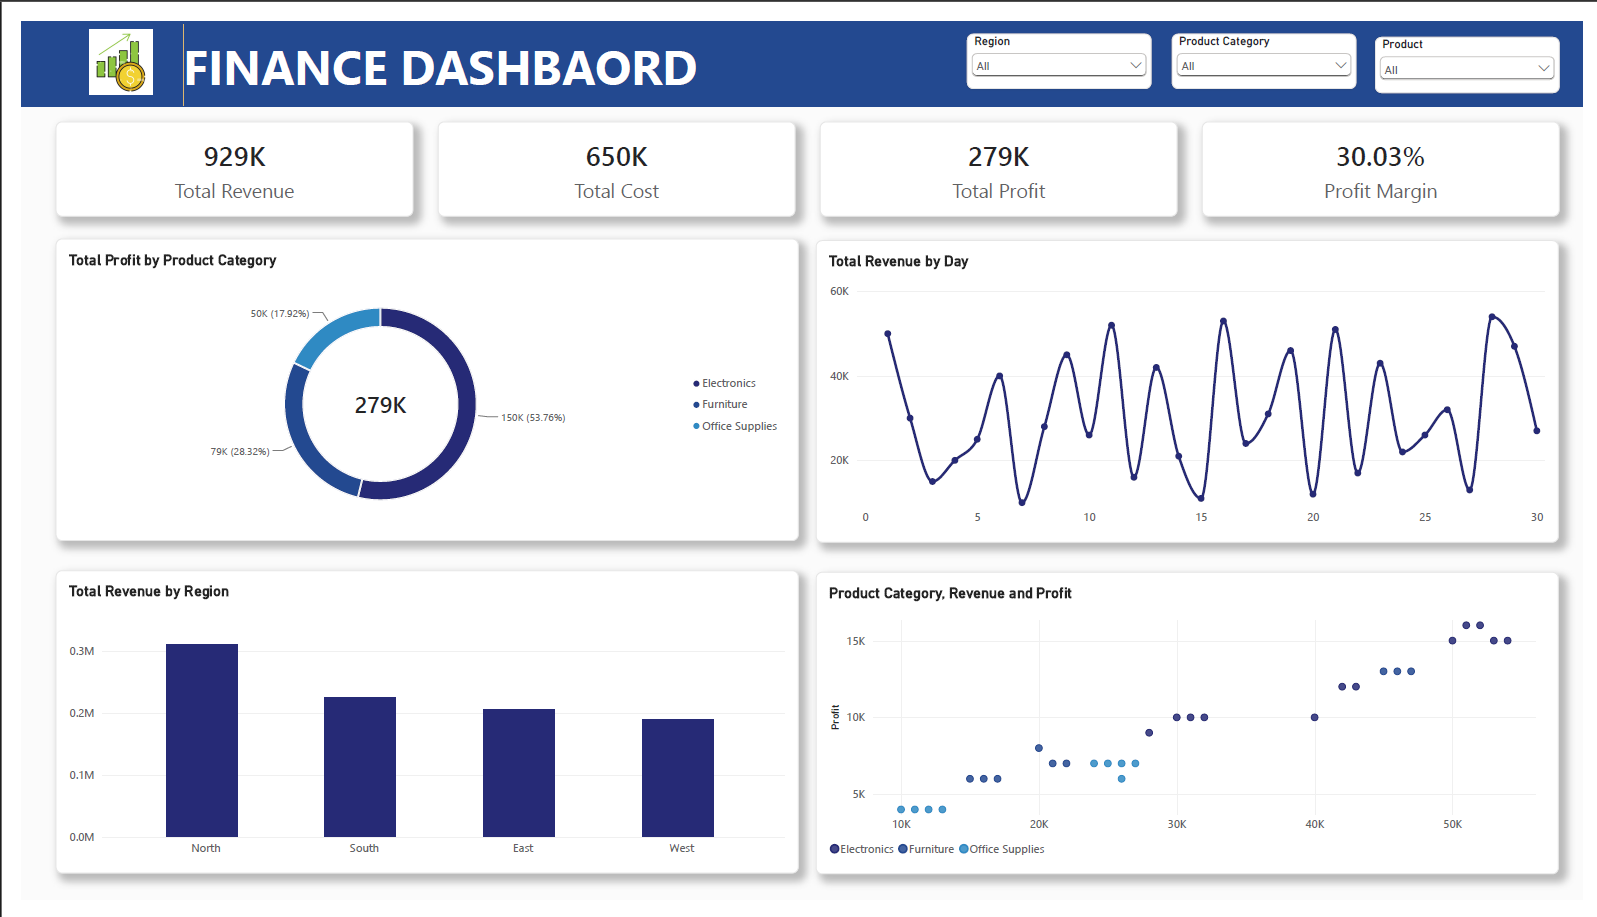

Layout of this report page (visuals, bound fields, positions):
{"tool":"powerbi","page":{"name":"Finanace Dashboard","canvas":[1920,1080],"ordinal":0},"visuals":[{"type":"card","fields":{"Values":["Measures (2).Total Revenue"]},"box":[41.7,122.9,440,116.7],"z":0},{"type":"card","fields":{"Values":["Measures (2).Total Cost"]},"box":[511.8,122.9,440,116.7],"z":1000},{"type":"card","fields":{"Values":["Measures (2).Total Profit"]},"box":[981.9,122.9,440,116.7],"z":2000},{"type":"card","fields":{"Values":["Measures (2).Profit Margin"]},"box":[1452.1,122.9,440,116.7],"z":3000},{"type":"lineChart","fields":{"Category":["Sheet1.Date.Variation.Date Hierarchy.Day"],"Y":["Measures (2).Total Revenue"]},"box":[977.1,268.8,914,372],"z":4000},{"type":"donutChart","fields":{"Y":["Measures (2).Total Profit"],"Category":["Sheet1.Product Category"]},"box":[41.7,266.7,914,372],"z":5000},{"type":"clusteredColumnChart","fields":{"Y":["Measures (2).Total Revenue"],"Category":["Sheet1.Region"]},"box":[41.7,675,914.6,372.9],"z":6000},{"type":"scatterChart","fields":{"X":["Sheet1.Revenue"],"Y":["Sheet1.Profit"],"Series":["Sheet1.Product Category"]},"box":[977.1,677.1,914,372],"z":7000},{"type":"textbox","box":[0,0,1920.8,104.2],"z":8000},{"type":"image","box":[27.1,14.6,162.5,81.2],"z":9000},{"type":"slicer","fields":{"Values":["Sheet1.Product"]},"box":[1664.6,18.8,227.1,68.8],"z":10000},{"type":"slicer","fields":{"Values":["Sheet1.Product Category"]},"box":[1414.6,14.6,227.1,68.8],"z":11000},{"type":"slicer","fields":{"Values":["Sheet1.Region"]},"box":[1162.5,14.6,227.1,68.8],"z":12000}]}

Visuals, with their boxes in screenshot pixels (x1, y1, x2, y2), scaled from the page's 1920x1080 canvas onto the 1597x917 screenshot:
card - Measures (2).Total Revenue: bbox=[35, 104, 401, 203]
card - Measures (2).Total Cost: bbox=[426, 104, 792, 203]
card - Measures (2).Total Profit: bbox=[817, 104, 1183, 203]
card - Measures (2).Profit Margin: bbox=[1208, 104, 1574, 203]
lineChart - Sheet1.Date.Variation.Date Hierarchy.Day x Measures (2).Total Revenue: bbox=[813, 228, 1573, 544]
donutChart - Measures (2).Total Profit x Sheet1.Product Category: bbox=[35, 226, 795, 542]
clusteredColumnChart - Measures (2).Total Revenue x Sheet1.Region: bbox=[35, 573, 795, 890]
scatterChart - Sheet1.Revenue x Sheet1.Profit: bbox=[813, 575, 1573, 891]
textbox: bbox=[0, 0, 1596, 88]
image: bbox=[23, 12, 158, 81]
slicer - Sheet1.Product: bbox=[1385, 16, 1573, 74]
slicer - Sheet1.Product Category: bbox=[1177, 12, 1366, 71]
slicer - Sheet1.Region: bbox=[967, 12, 1156, 71]
